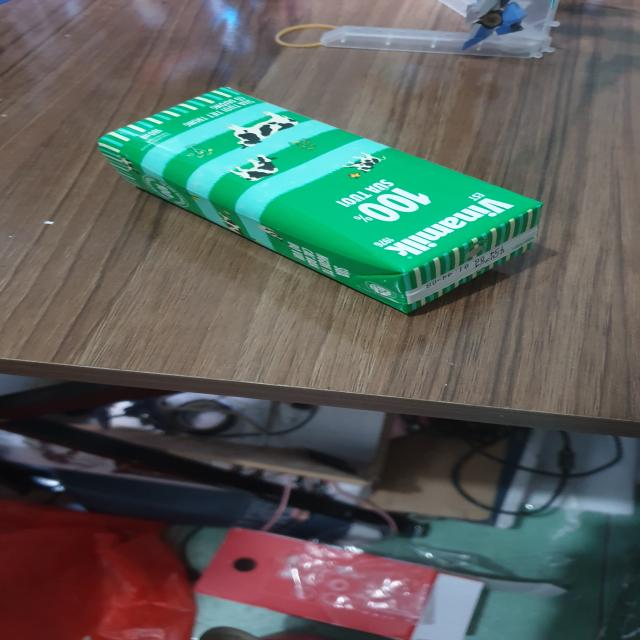Vina: (93, 85, 550, 319)
